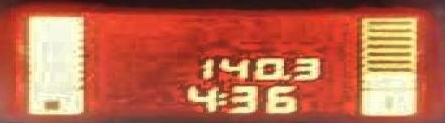-: (281, 72, 291, 81)
0: (252, 54, 281, 80)
1: (198, 55, 211, 78)
3: (226, 83, 255, 113), (291, 54, 320, 79)
4: (182, 84, 213, 111), (213, 55, 247, 79)
6: (260, 83, 297, 113)
X: (216, 89, 224, 105)
